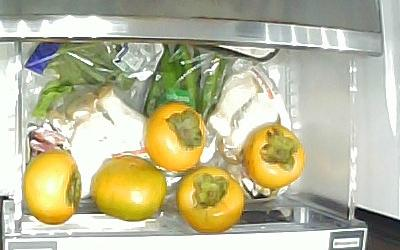persimmon: (91, 156, 165, 221), (177, 167, 243, 234), (144, 102, 206, 173), (243, 122, 307, 189), (23, 150, 80, 224)
